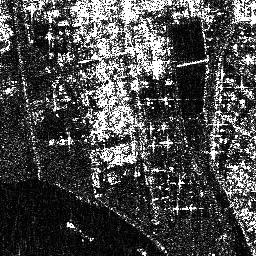ship: (64, 220, 95, 242)
